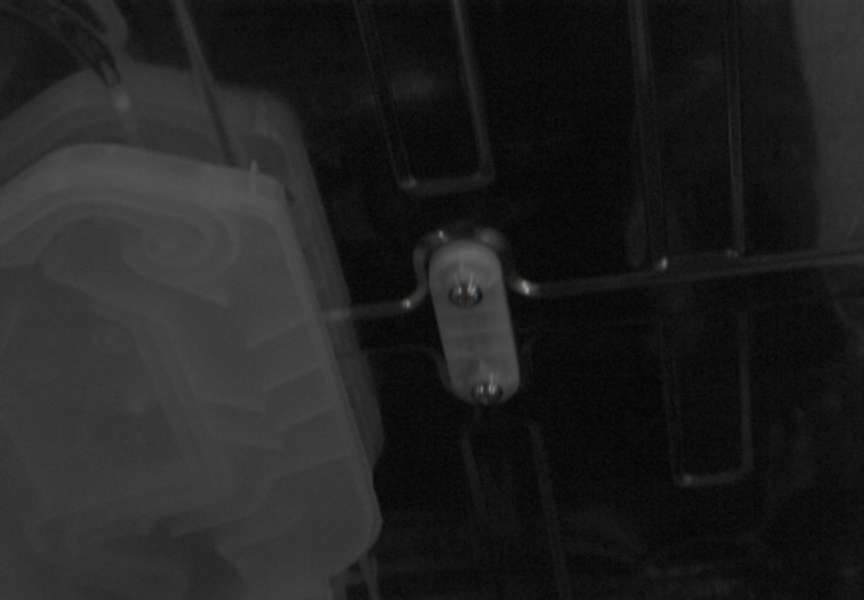screw: (449, 280, 482, 308), (471, 380, 503, 406)
